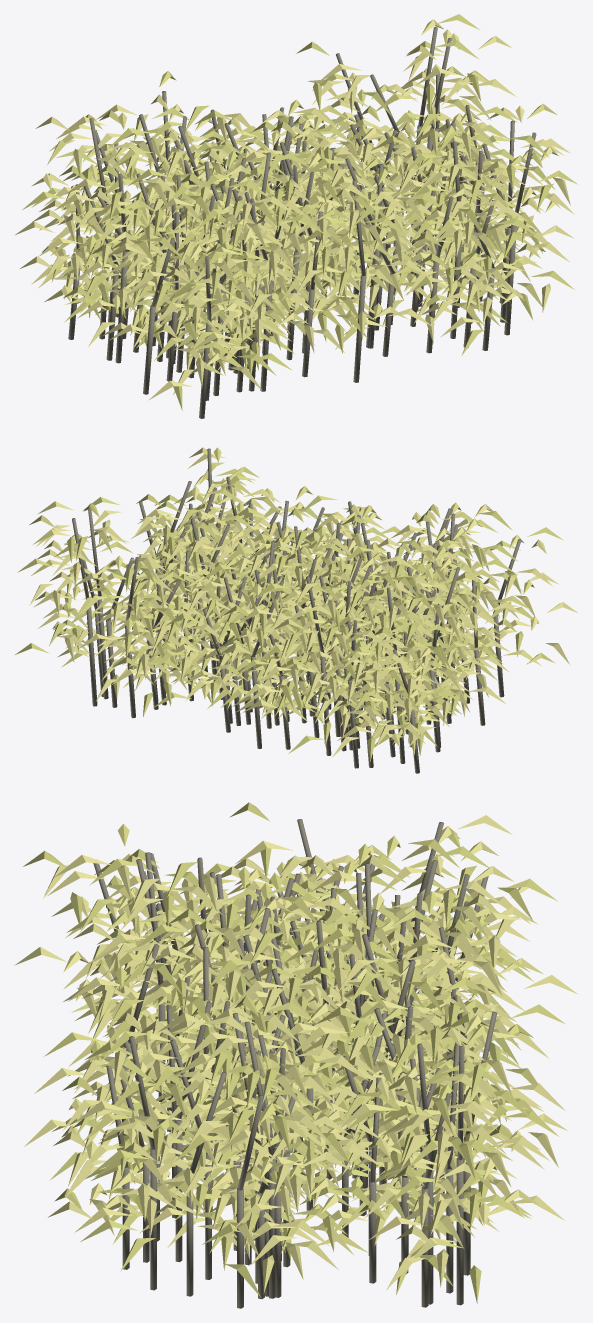
File: dongpo-right-yellow.glb
The picture shows the model from 3 angles, top to bottom: view 1: azimuth 30°, elevation 25°; view 2: azimuth 150°, elevation 25°; view 3: azimuth 270°, elevation 25°; orthographic projection. The views are drawn at different scales.
Parts seen in each view (by area): view 1: dongpo-right-yellow; view 2: dongpo-right-yellow; view 3: dongpo-right-yellow.
Part boxes in pixels (x1,y1,x2,y2): dongpo-right-yellow: (15,14,578,418); dongpo-right-yellow: (15,447,578,773); dongpo-right-yellow: (14,802,577,1308).
Size of the model in its own units: 3.42 by 1.36 by 2.53.
